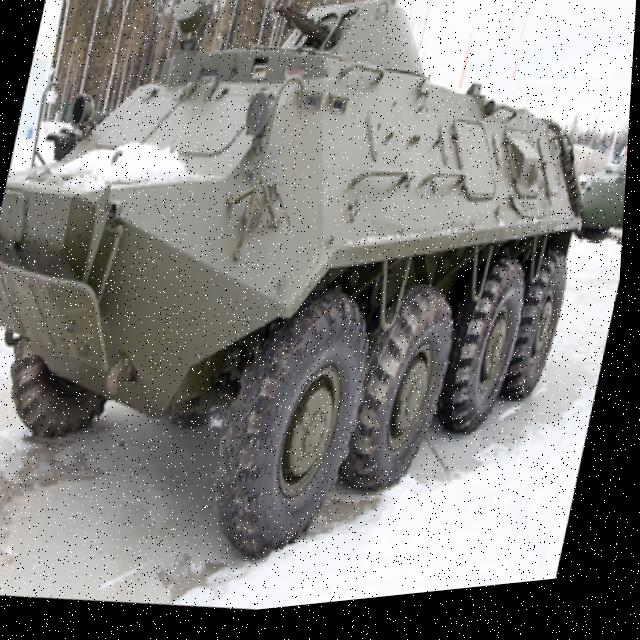MIL_APC: (0, 0, 639, 607)
